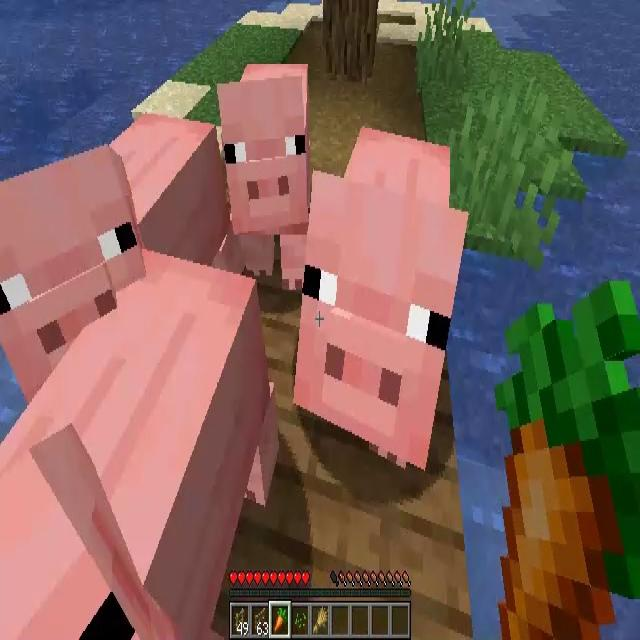pig: (0, 247, 279, 640), (0, 112, 248, 407), (292, 134, 468, 475), (215, 60, 310, 290)
